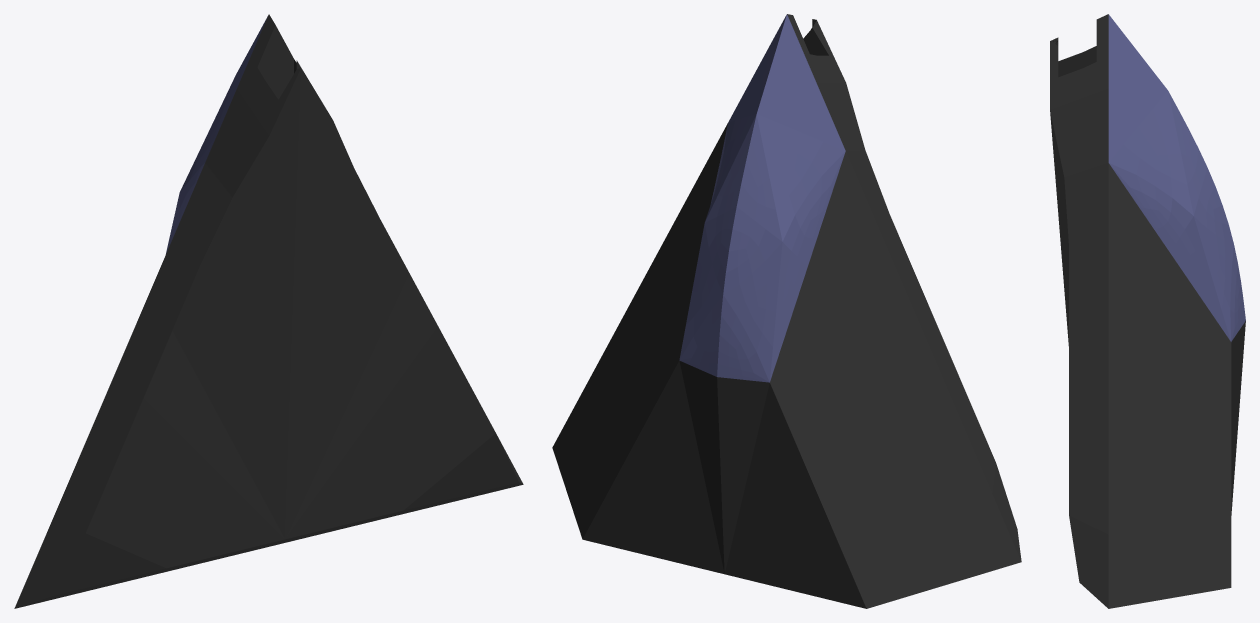
File: Ships.fbx
3 views of the same model, side by side, from view 1: azimuth 30°, elevation 25°; view 2: azimuth 150°, elevation 25°; view 3: azimuth 270°, elevation 25° (orthographic). The views are drawn at different scales.
Visible parts, largest first — view 1: Plane; view 2: Plane; view 3: Plane.
Part boxes in pixels (x1,y1,x2,y2): Plane: (14,14,523,608); Plane: (552,14,1021,608); Plane: (1050,14,1245,608).
Bounding box in the file's own units: 666 × 698 × 245.
